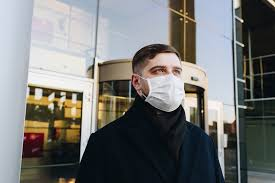with_mask: (132, 56, 187, 114)
